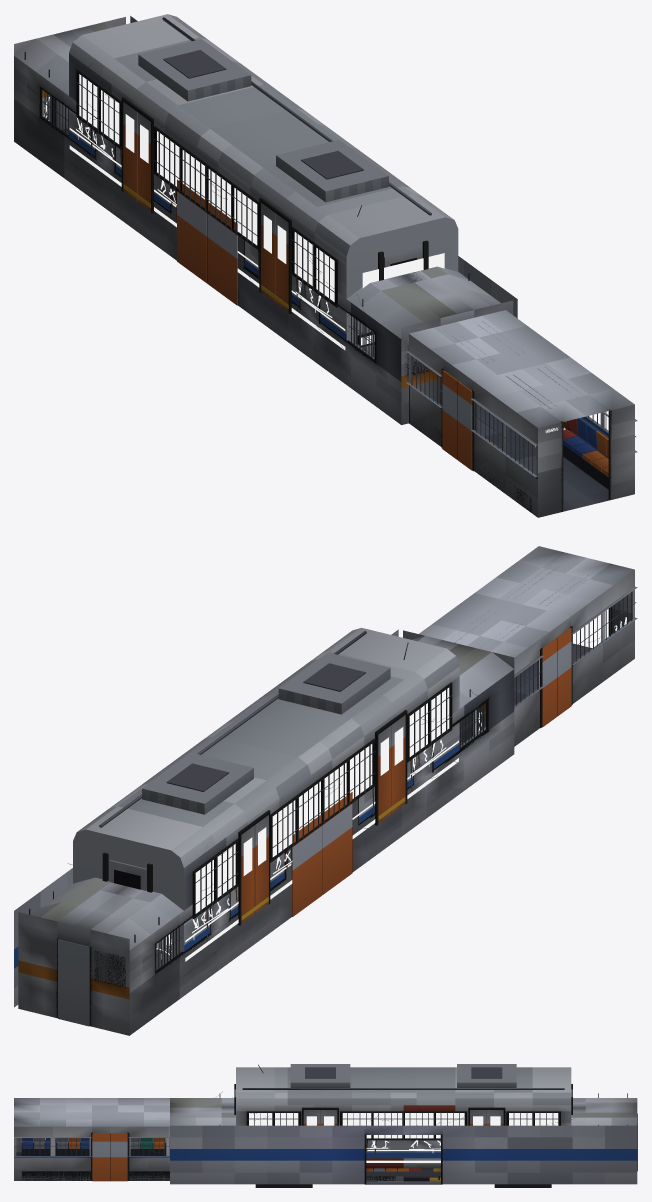
File: metro.glb
The picture shows the model from 3 angles, top to bottom: view 1: azimuth 30°, elevation 25°; view 2: azimuth 150°, elevation 25°; view 3: azimuth 270°, elevation 25°; orthographic projection. The views are drawn at different scales.
Visible parts, largest first — view 1: carro_solido, vagao_solido, fuga_solido, carro_brilho, fugaporta_solido, carro_farol; view 2: carro_solido, vagao_solido, fuga_solido, carro_brilho, fugaporta_solido; view 3: vagao_solido, carro_solido, fuga_solido, carro_brilho.
Part boxes in pixels (x1,y1,x2,y2): carro_solido: (69,14,458,355); vagao_solido: (14,16,517,424); fuga_solido: (352,294,637,517); carro_brilho: (69,74,345,350); fugaporta_solido: (442,370,472,470); carro_farol: (361,253,444,345); carro_solido: (68,627,459,969); vagao_solido: (14,629,514,1035); fuga_solido: (419,546,637,747); carro_brilho: (156,687,458,961); fugaporta_solido: (542,628,571,727); vagao_solido: (170,1091,637,1184); carro_solido: (234,1064,576,1187); fuga_solido: (14,1097,403,1181); carro_brilho: (249,1113,558,1162).
Size of the model in its own units: 3.21 by 4.55 by 24.02.
